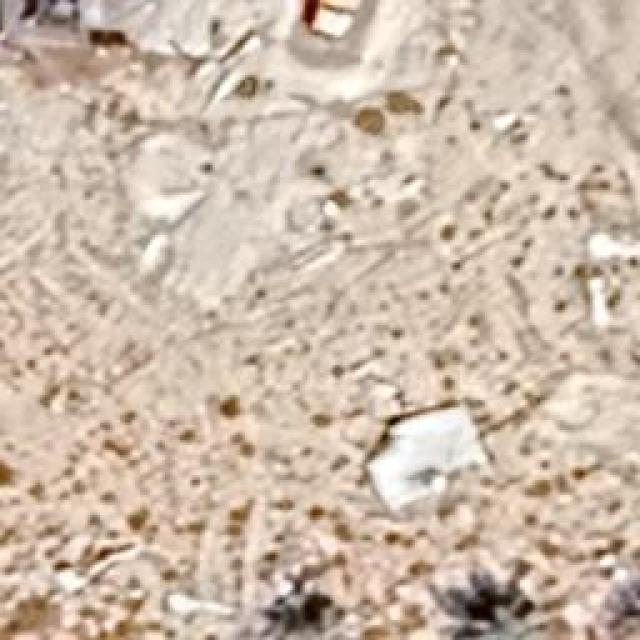PalmTree: (105, 53, 625, 606), (30, 68, 314, 614), (442, 584, 570, 638)
